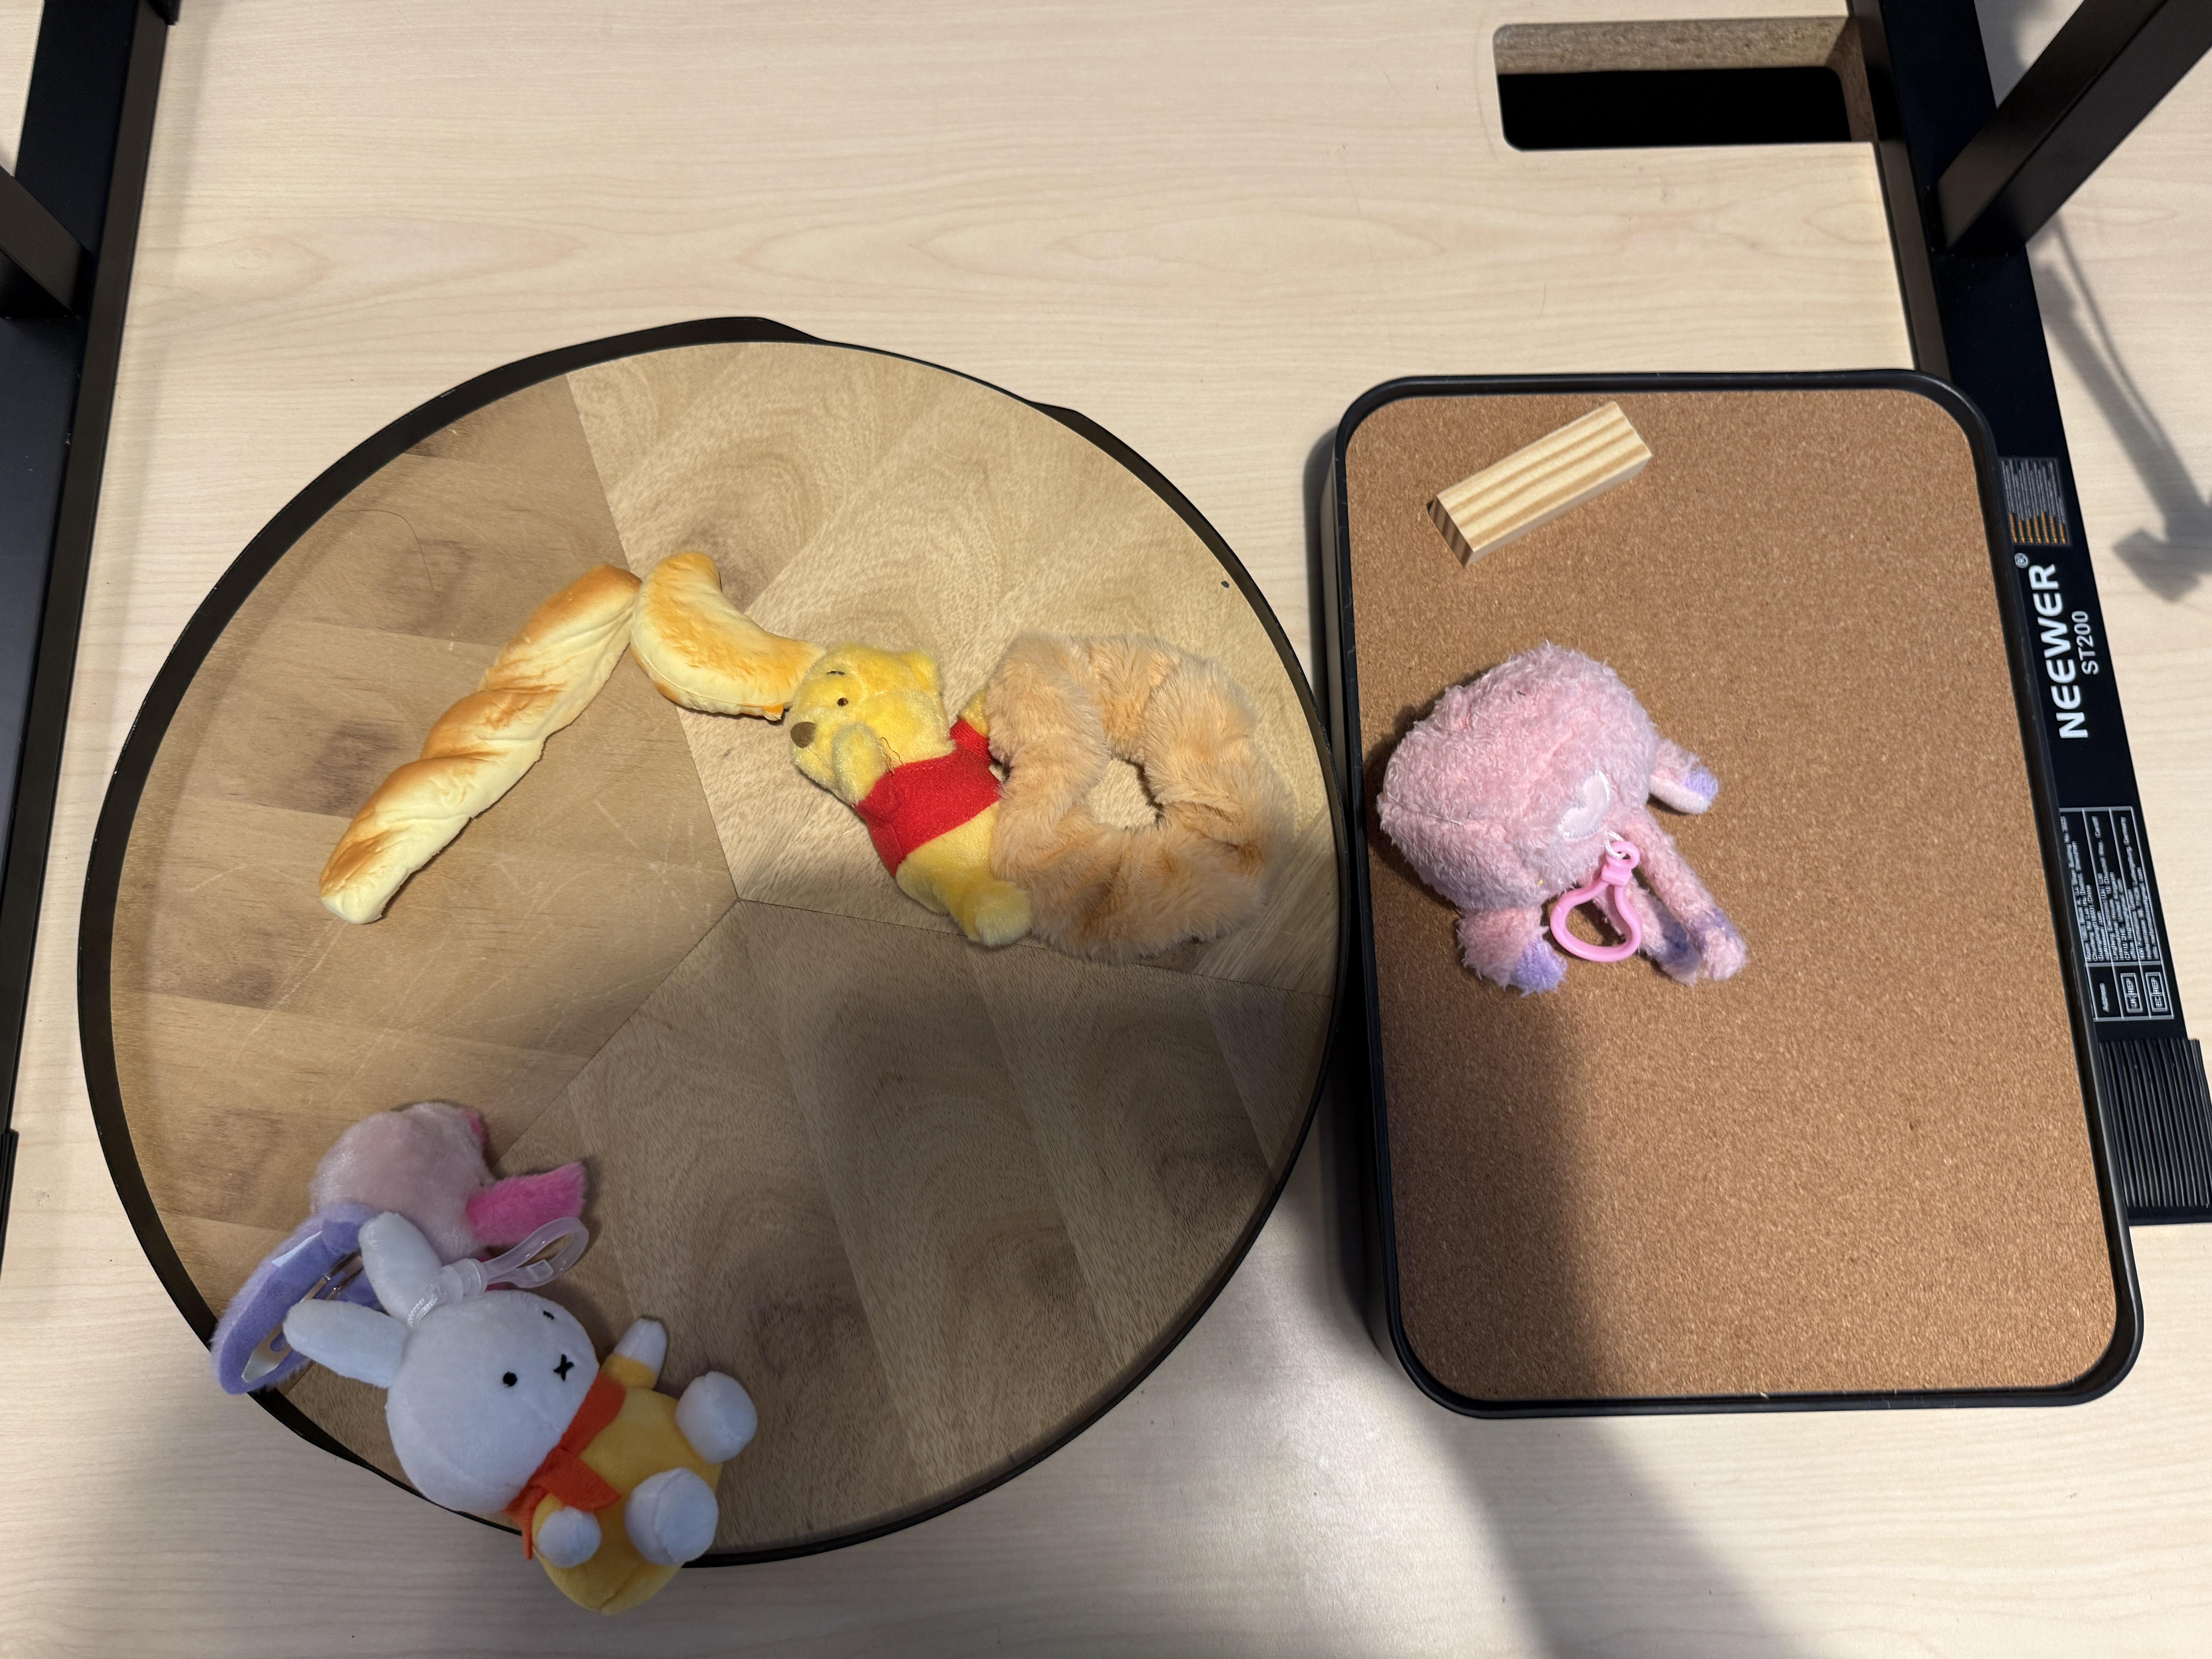block: (1433, 399, 1656, 572)
bread: (314, 561, 636, 931), (639, 547, 827, 721)
doll: (284, 1216, 759, 1617), (786, 638, 1296, 951), (1385, 645, 1749, 993), (218, 1079, 589, 1391)
